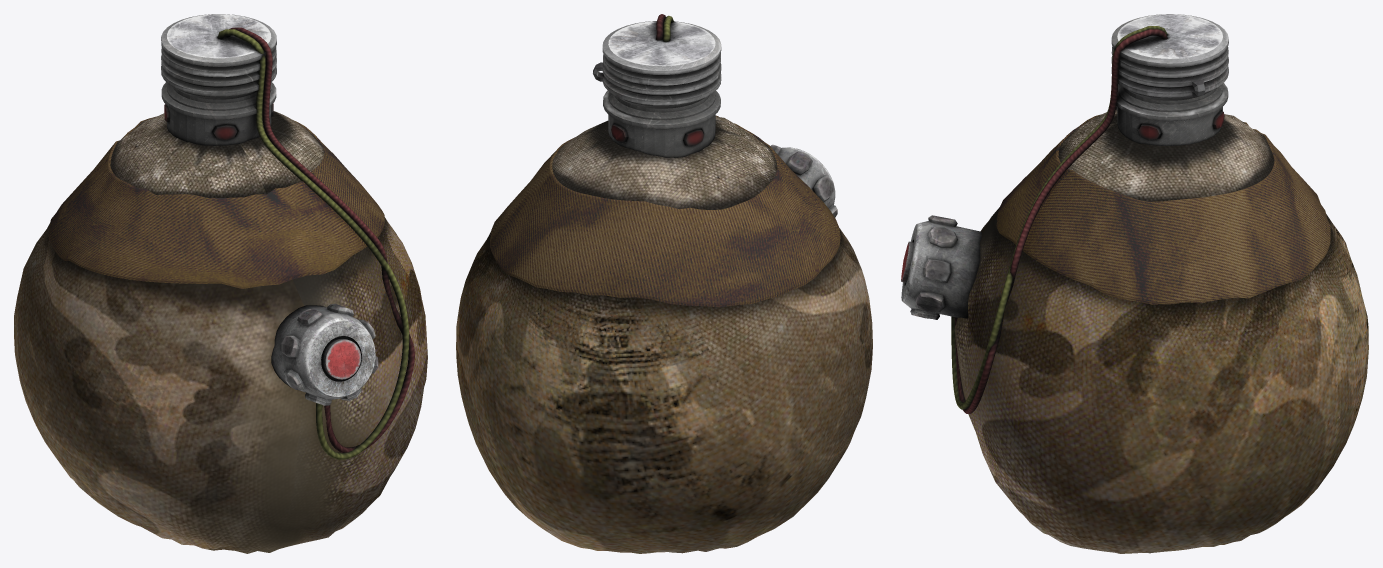
The model's file is semtex.fbx.
3 views of the same model, side by side, from view 1: azimuth 30°, elevation 25°; view 2: azimuth 150°, elevation 25°; view 3: azimuth 270°, elevation 25° (orthographic). The views are drawn at different scales.
Visible parts, largest first — view 1: semtex; view 2: semtex; view 3: semtex.
Part boxes in pixels (x1,y1,x2,y2): semtex: (14, 14, 427, 553); semtex: (456, 14, 872, 553); semtex: (901, 14, 1368, 553).
Bounding box in the file's own units: 185 × 249 × 210.
